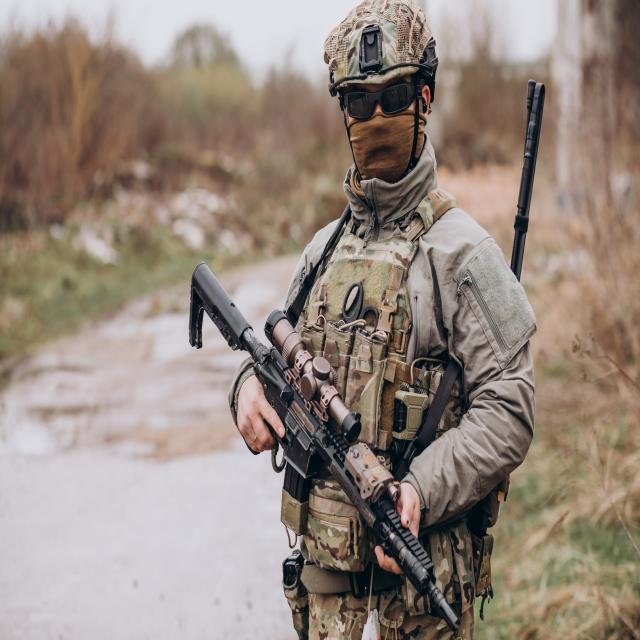rifle: (171, 260, 463, 630)
